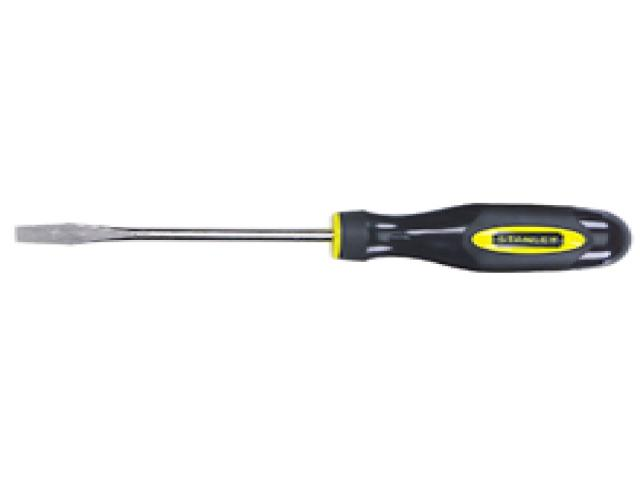Screwdriver: (15, 203, 630, 270)
